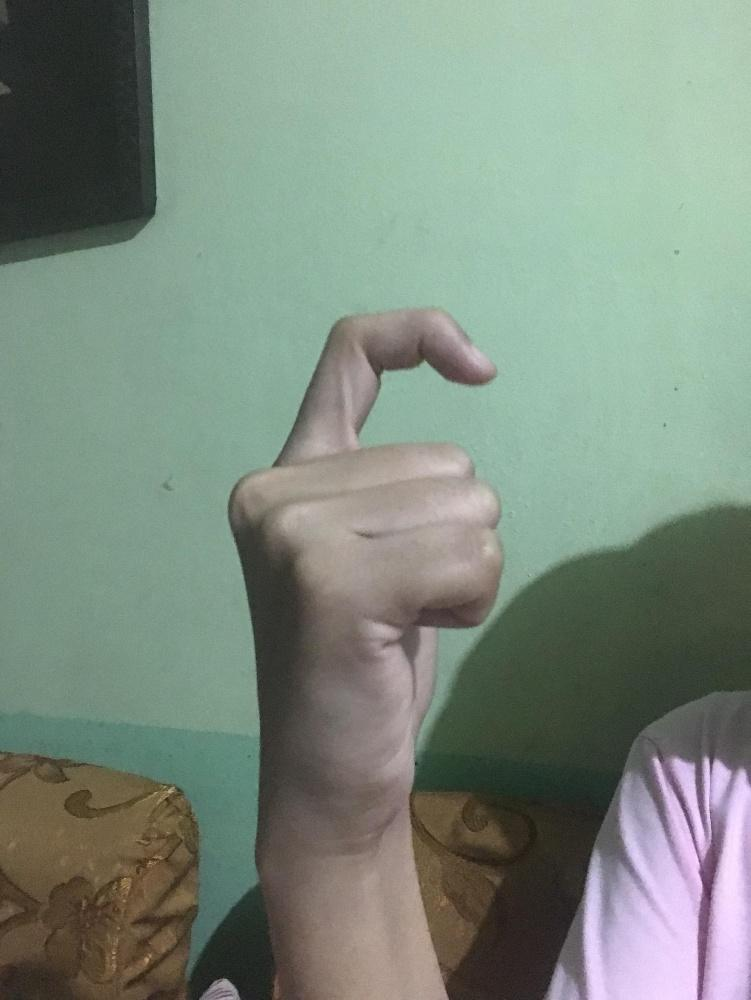x: (226, 302, 509, 855)
